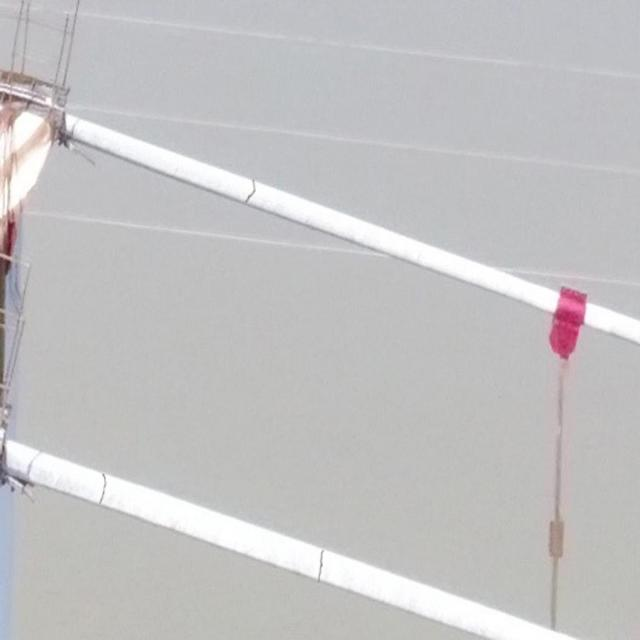crack: (315, 550, 326, 582), (97, 474, 108, 504), (245, 179, 256, 206)
